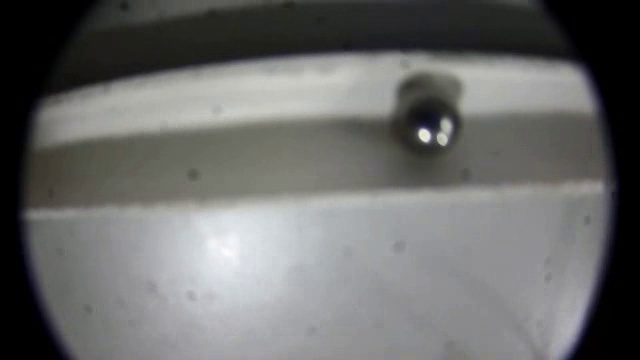gangzhu: (402, 101, 464, 156)
